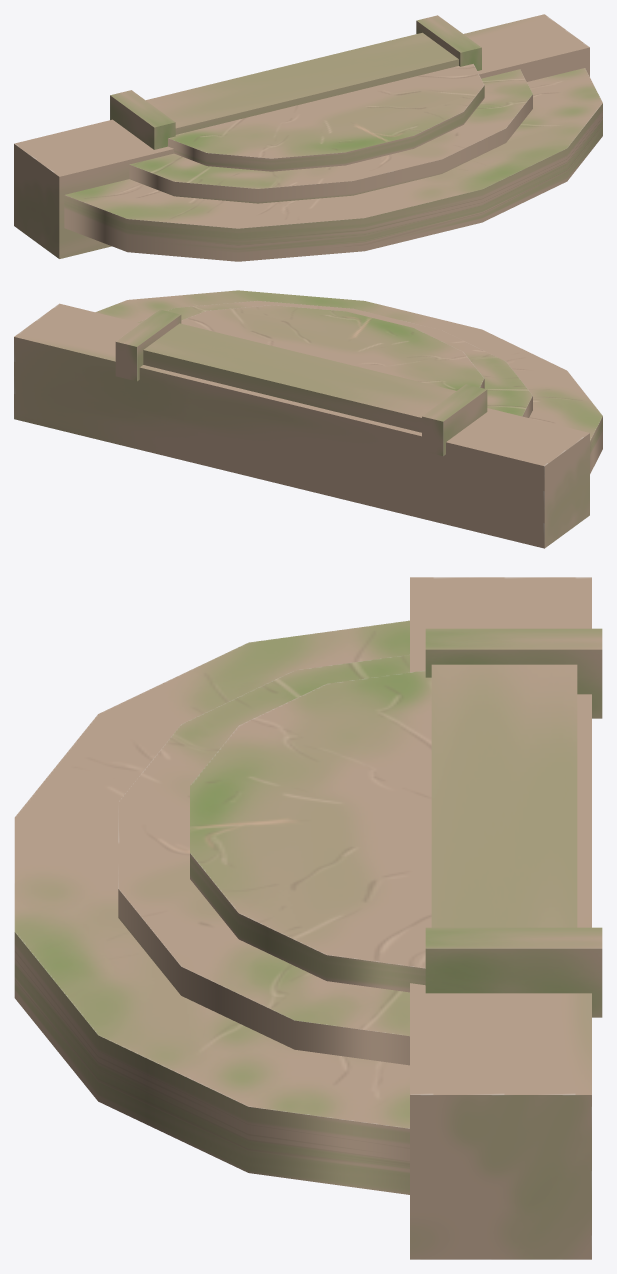
File: Podium.fbx
The picture shows the model from 3 angles, top to bottom: view 1: azimuth 30°, elevation 25°; view 2: azimuth 150°, elevation 25°; view 3: azimuth 270°, elevation 25°; orthographic projection. The views are drawn at different scales.
Visible parts, largest first — view 1: pCylinder7; view 2: pCylinder7; view 3: pCylinder7.
Boxes of the visible parts, left/top/right/bottom form: pCylinder7: left=14, top=14, right=602, bottom=261; pCylinder7: left=14, top=290, right=602, bottom=548; pCylinder7: left=14, top=577, right=602, bottom=1259.
Size of the model in its own units: 8.41 by 1.59 by 4.03.
1 material, 1 textured.
